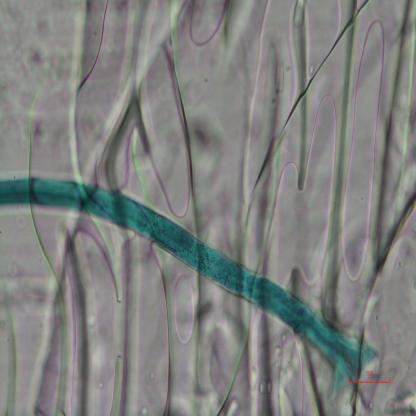Background material: (35, 220, 242, 416), (239, 0, 416, 223), (72, 0, 240, 169)
Microfibre: (0, 166, 381, 389)
